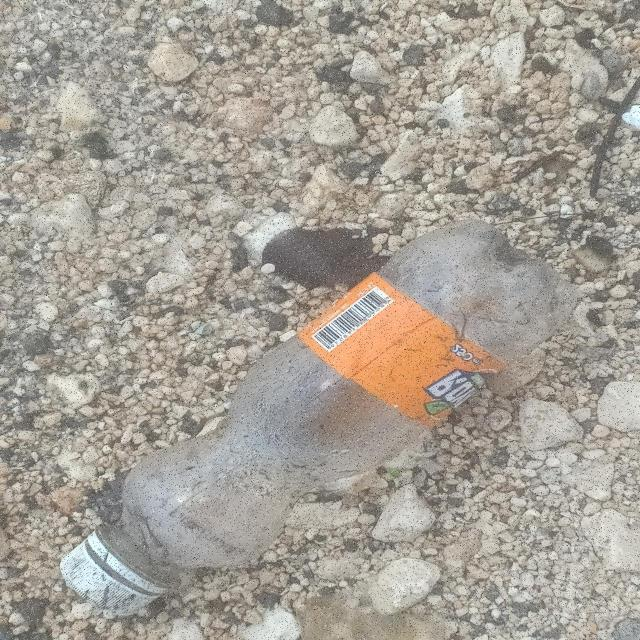plastic_waste: (56, 218, 584, 619)
